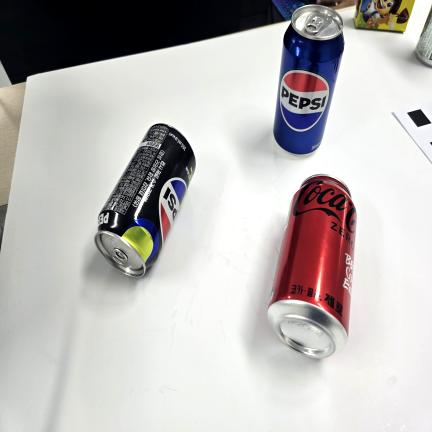can_coke_zero: (268, 174, 358, 358)
can_pepsi: (273, 5, 344, 155)
can_pepsi_zero: (94, 123, 196, 277)
